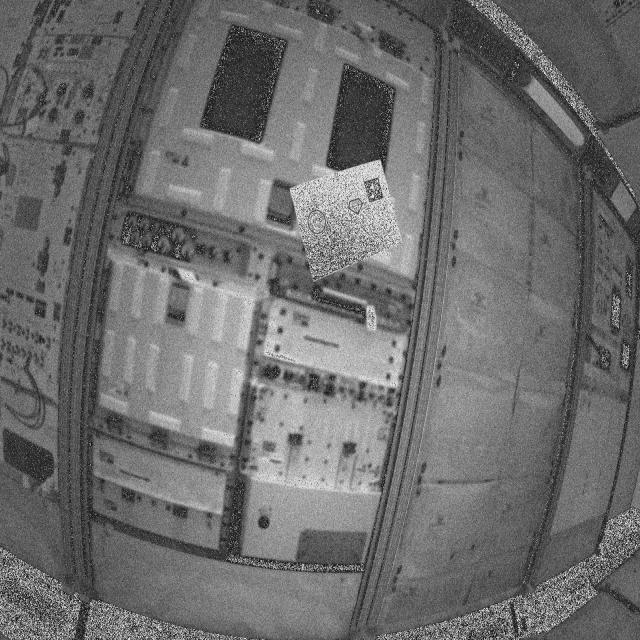coin: (307, 208, 329, 236)
diamond: (347, 197, 365, 217)
